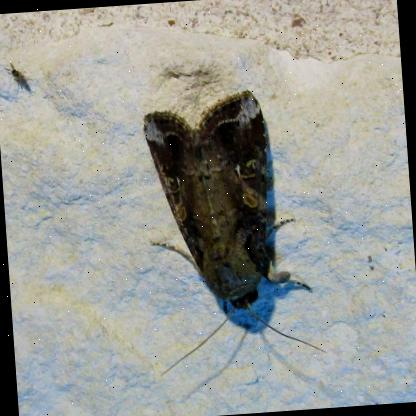Fall Armyworm Moth: (136, 82, 331, 380)
